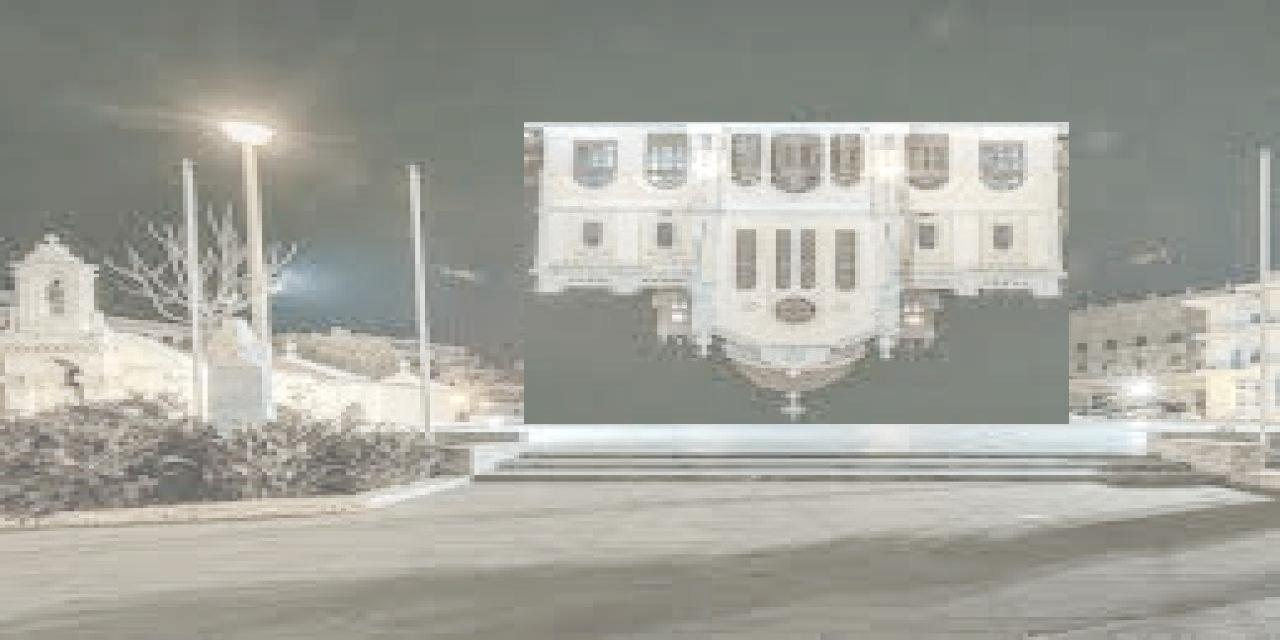Agios Minas: (525, 123, 1070, 425)
